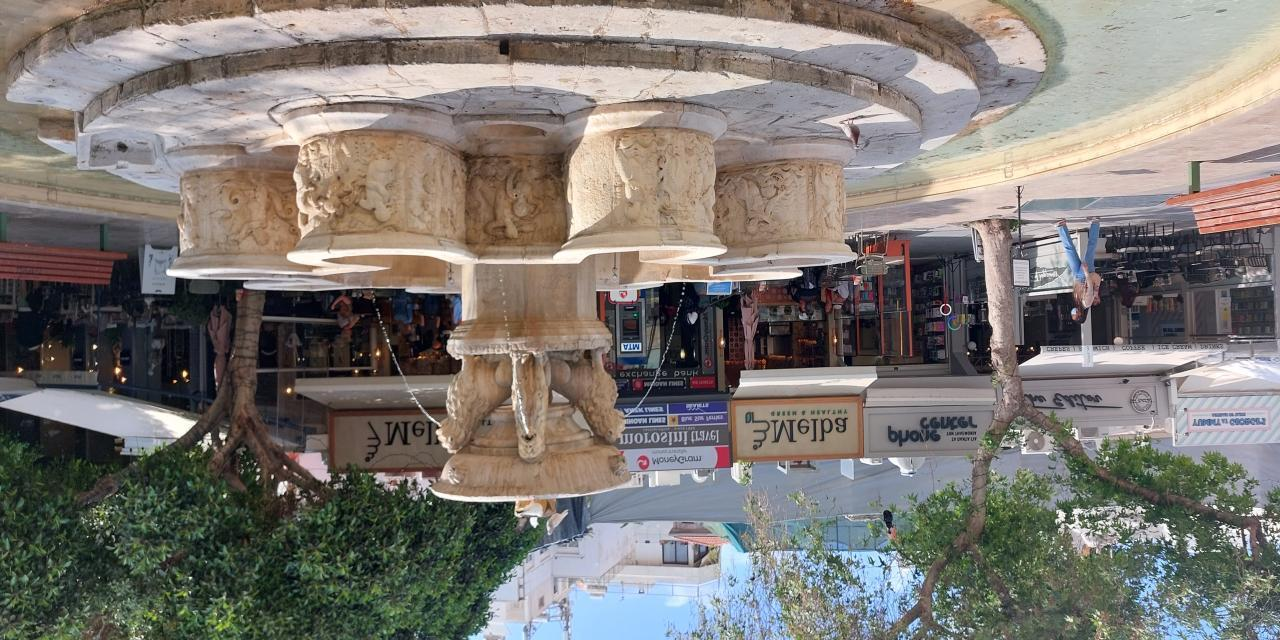Liontaria: (177, 103, 860, 527)
